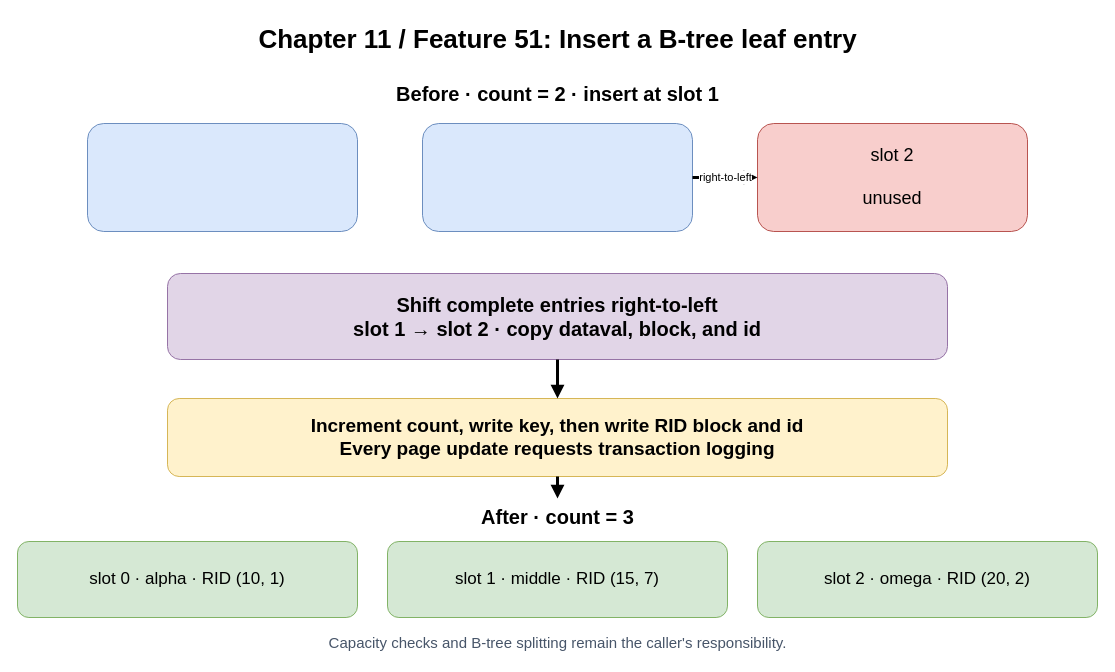
The diagram is 1115 pixels wide and 672 high, and some of its shapes have lost their labels. The box of each missing label's shape, as (x1, y1, x2, y2) in pixels:
slot 0 key alpha RID (10, 1): (86, 122, 358, 232)
slot 1 key omega RID (20, 2): (422, 122, 692, 232)
